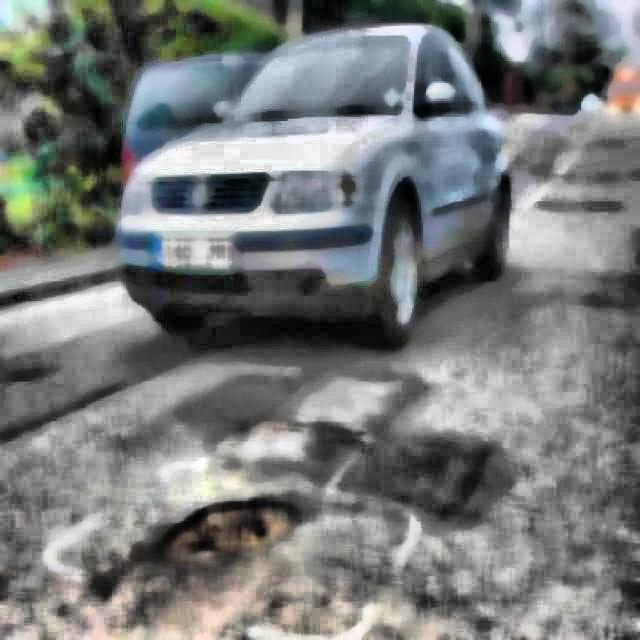buraco: (165, 501, 282, 574)
